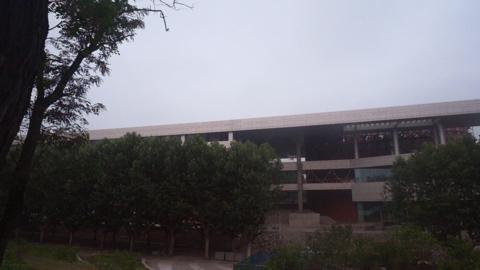UAV: (286, 155, 297, 161)
